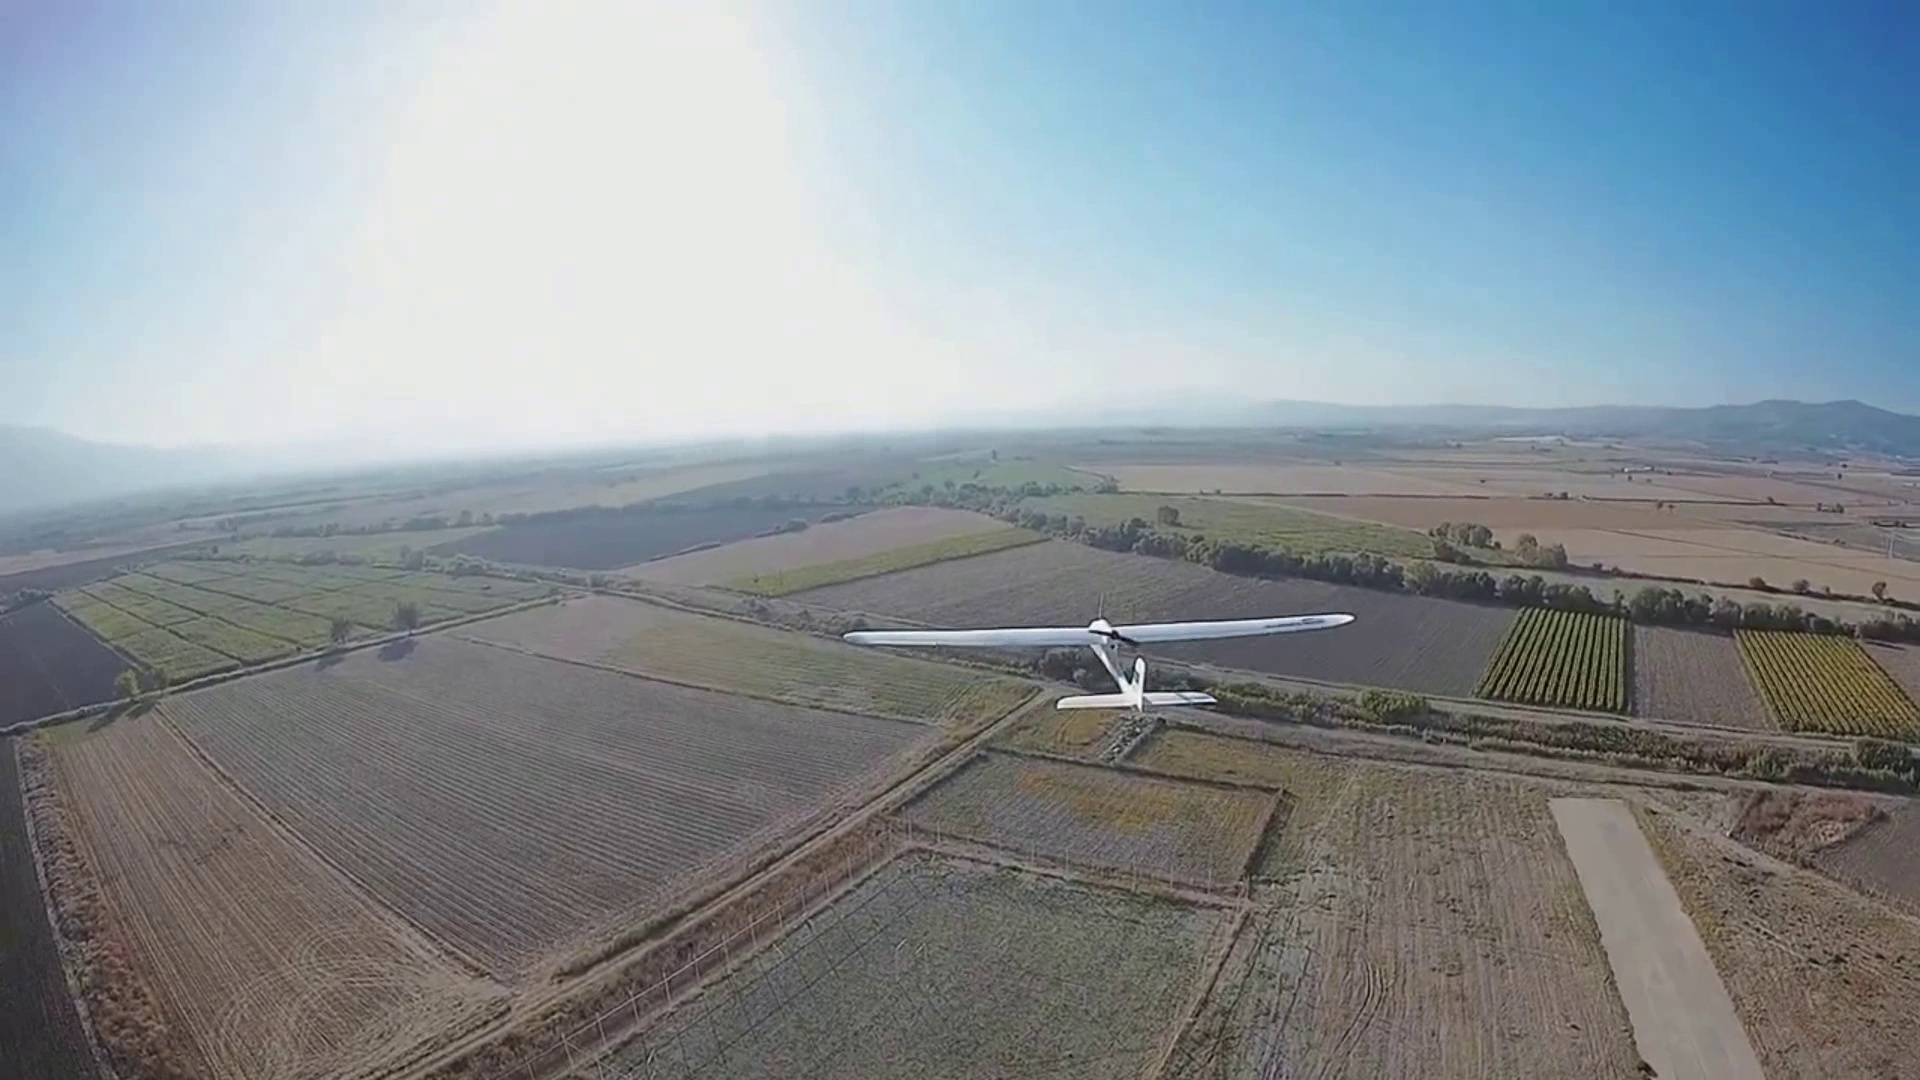airplane: (840, 607, 1357, 711)
